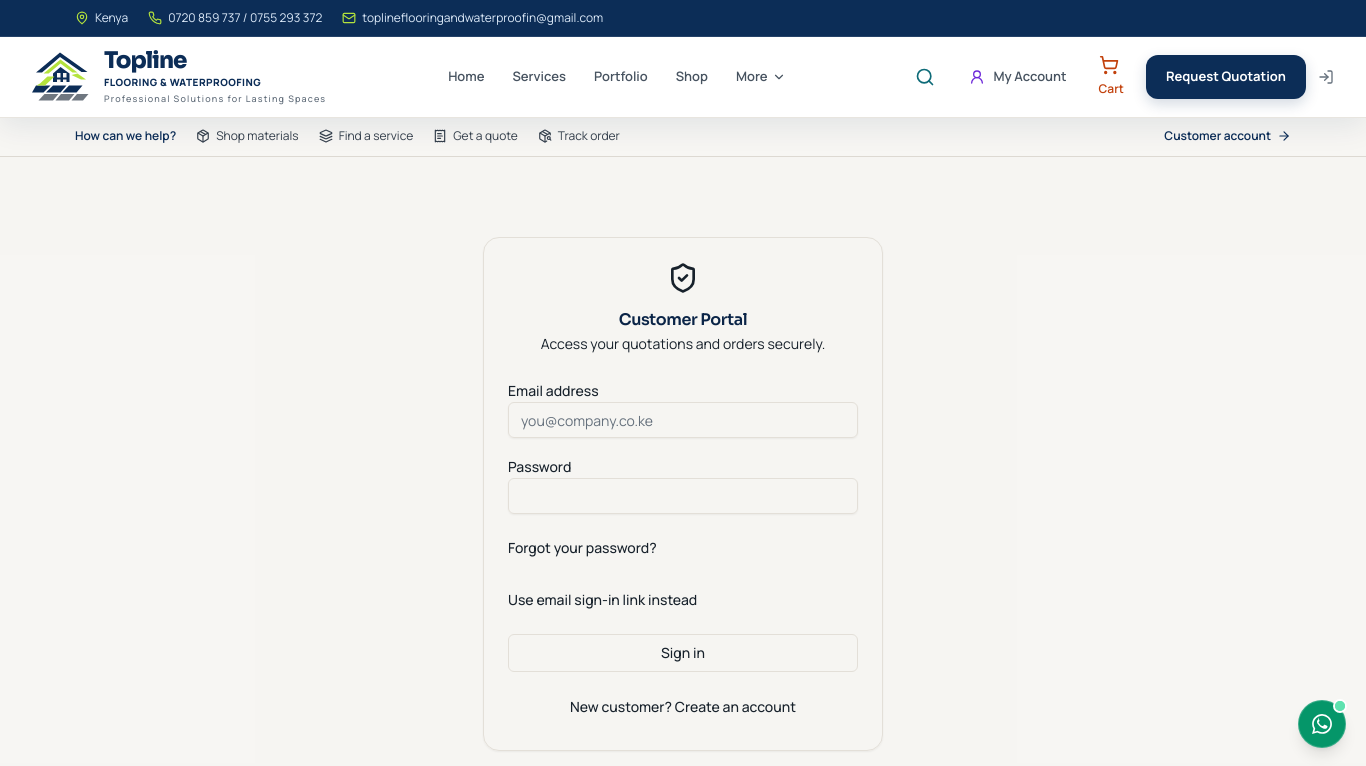
Test: customer registration and verification journey › registers with the consent flag and lets the customer resend the verification email
Click the button "New customer? Create an account": (683, 707) left=508, top=688, right=858, bottom=726
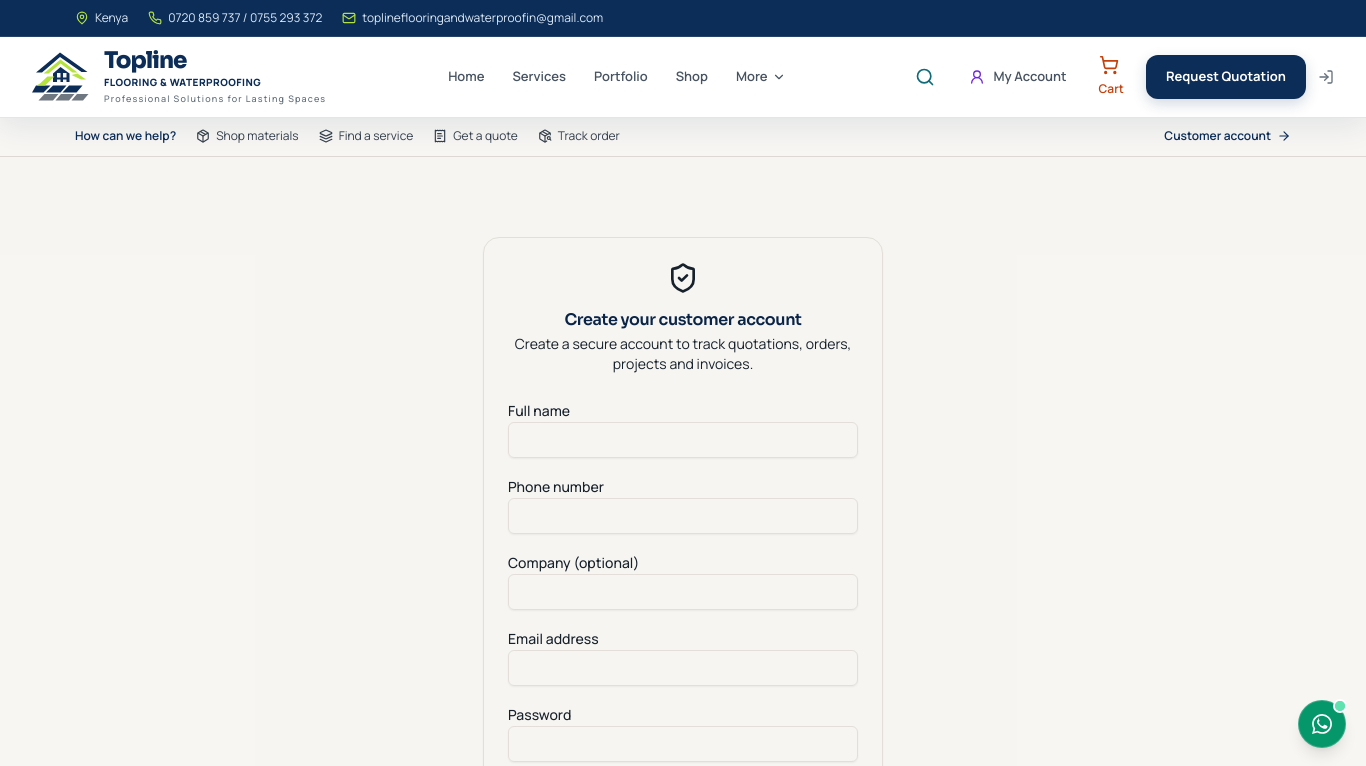
In the field labelled "Full name": (683, 440) left=508, top=422, right=858, bottom=458, type "Amina Wanjiru"
In the field labelled "Email address": (683, 668) left=508, top=650, right=858, bottom=686, type "Amina@Example.org"
In the field labelled "Phone number": (683, 516) left=508, top=498, right=858, bottom=534, type "0712345678"
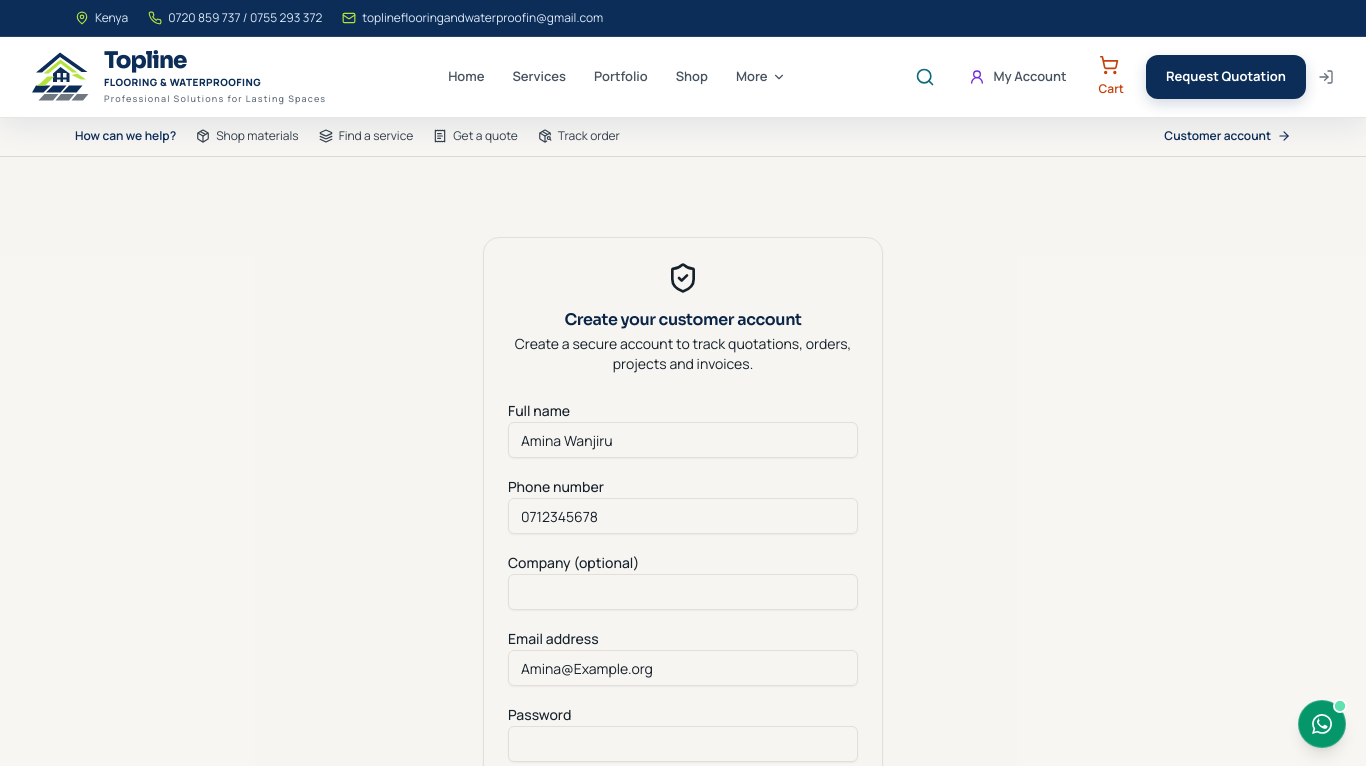
In the password field labelled "Password": (683, 744) left=508, top=726, right=858, bottom=762, type "correct horse 9"
(page scrolled)
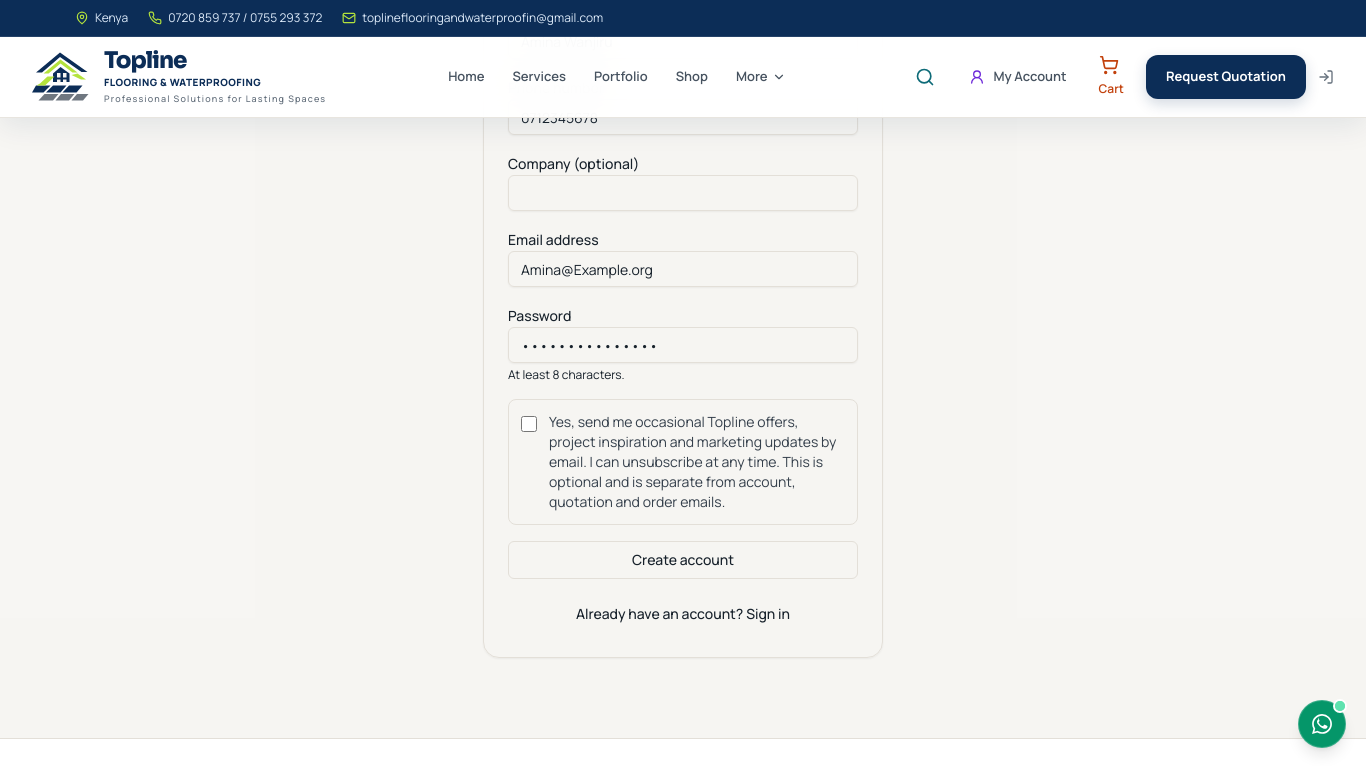
Click the checkbox labelled "Yes, send me occasional Topline offers": (529, 424) left=521, top=416, right=537, bottom=432
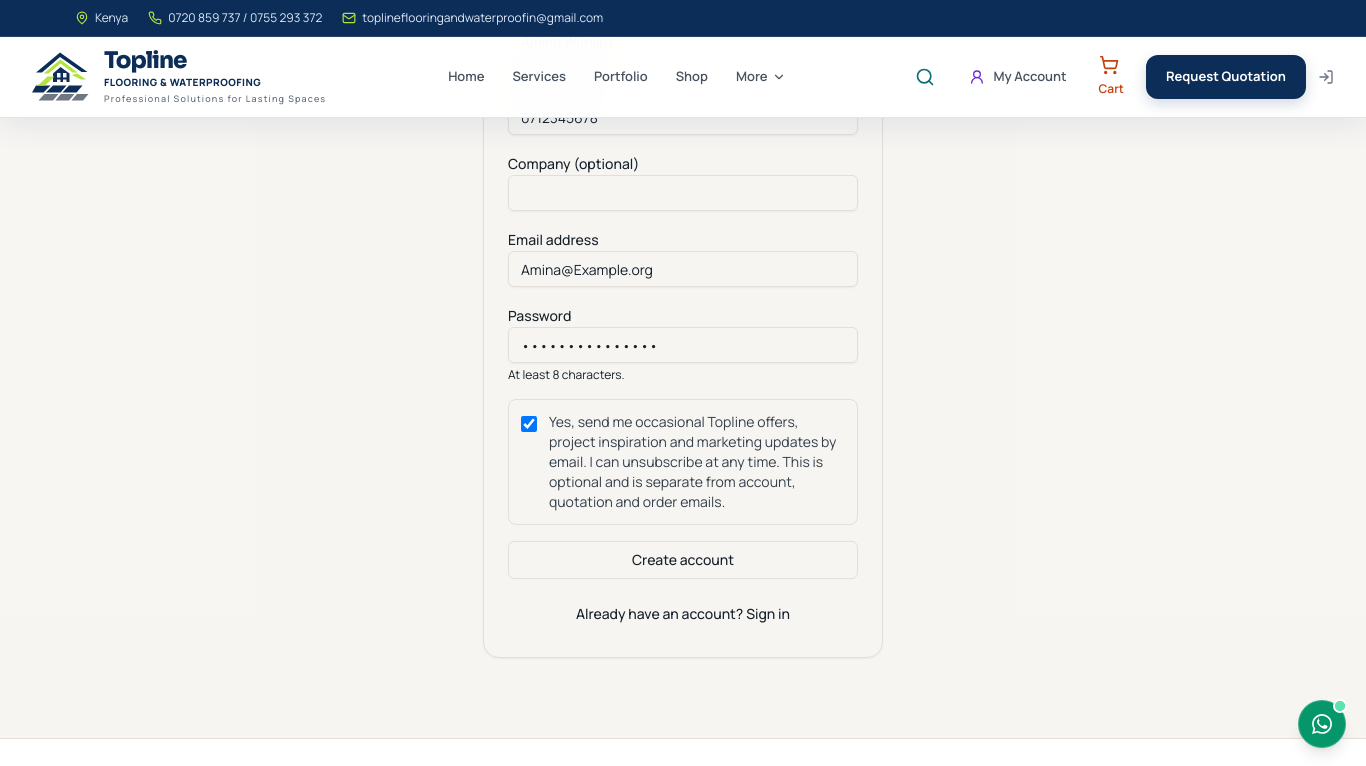
Click the button "Create account": (683, 560) left=508, top=541, right=858, bottom=579
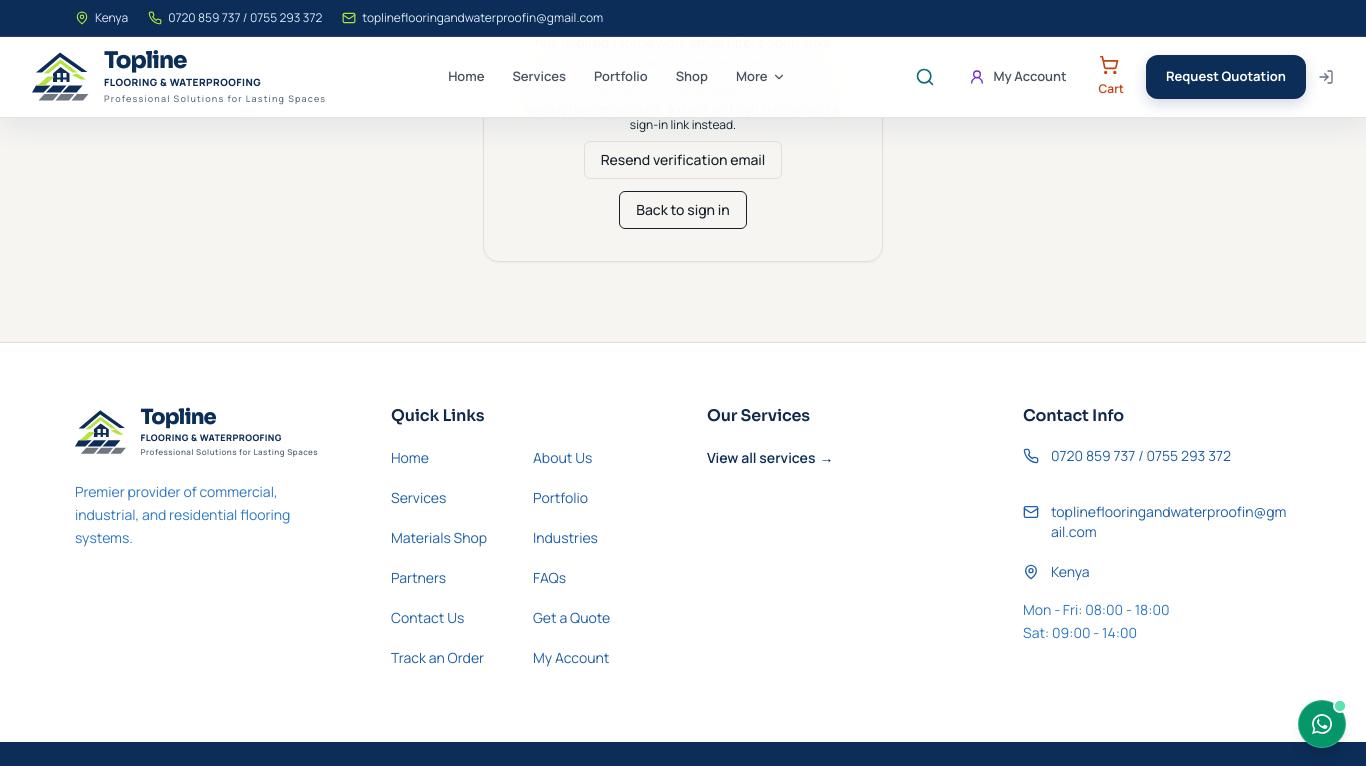
Click the button "Resend verification email": (683, 160) left=584, top=141, right=782, bottom=179
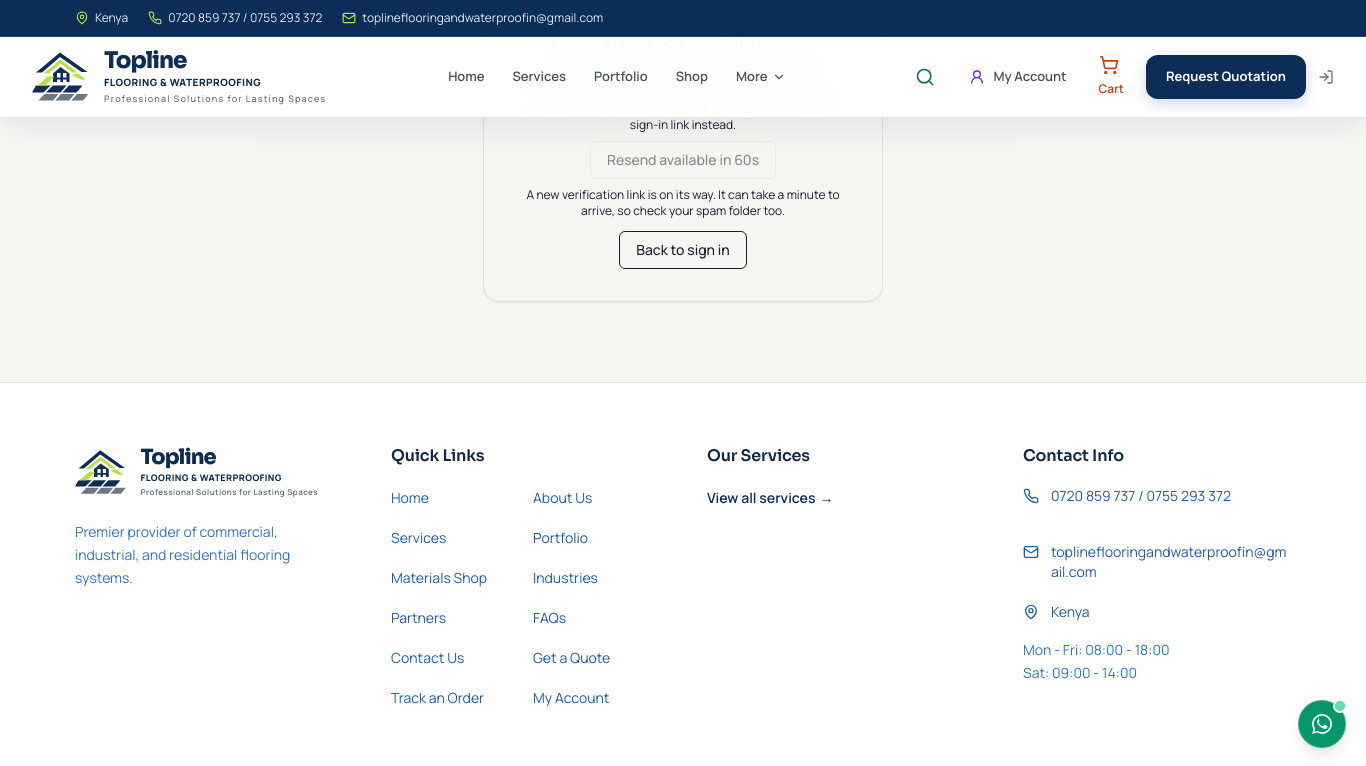
Expected: the text "new verification link is on its way" is shown, left=526, top=186, right=840, bottom=219
Expected: the button "Resend available in 60s" is disabled, left=590, top=141, right=776, bottom=179
